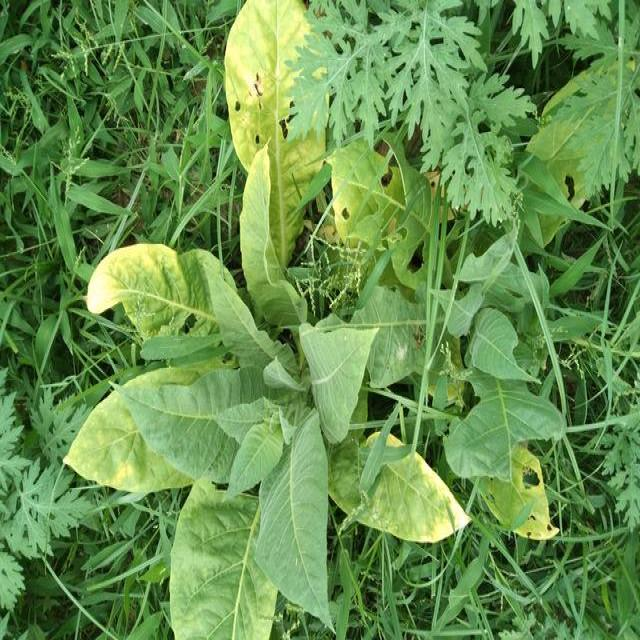crop: (63, 131, 471, 640)
